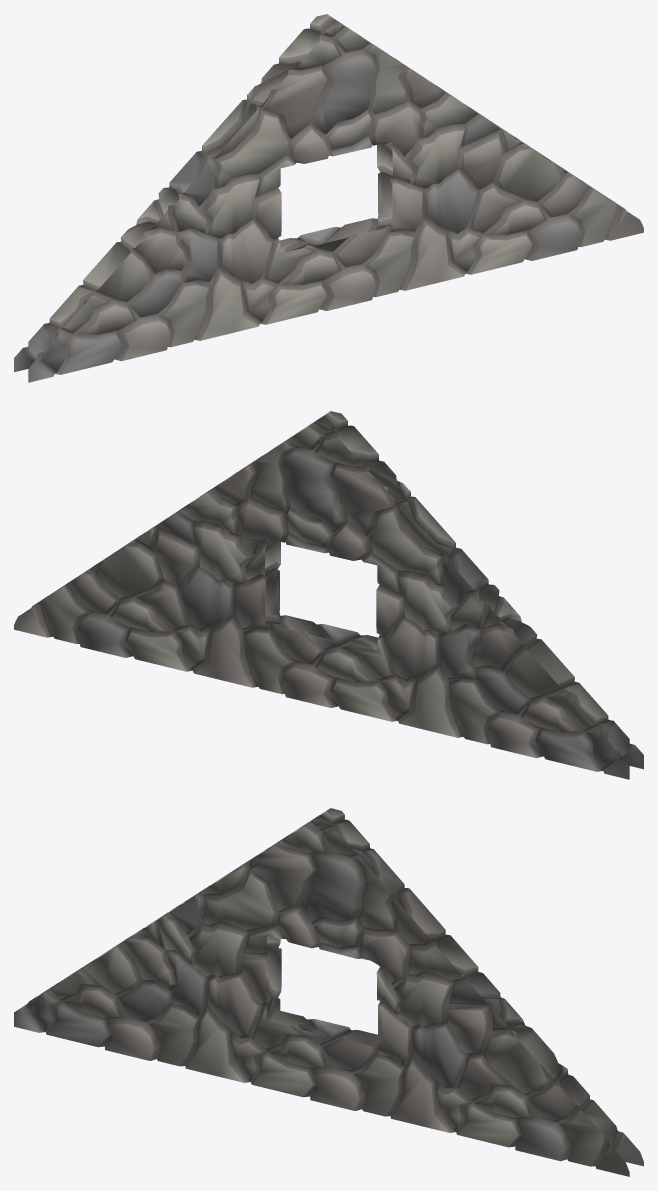
Rendered from rpgpp_ag_roof_end_01_9x4_wall_window_03a.fbx.
3 renders of one model, top to bottom at view 1: azimuth 30°, elevation 25°; view 2: azimuth 150°, elevation 25°; view 3: azimuth 330°, elevation 25°, orthographic.
Parts seen in each view (by area): view 1: rpgpp_ag_roof_end_01_9x4_wall_window_03a; view 2: rpgpp_ag_roof_end_01_9x4_wall_window_03a; view 3: rpgpp_ag_roof_end_01_9x4_wall_window_03a.
Part boxes in pixels (x1,y1,x2,y2): rpgpp_ag_roof_end_01_9x4_wall_window_03a: [14, 14, 643, 382]; rpgpp_ag_roof_end_01_9x4_wall_window_03a: [14, 411, 643, 779]; rpgpp_ag_roof_end_01_9x4_wall_window_03a: [14, 808, 643, 1176].
Size of the model in its own units: 9 by 3.94 by 0.4229.
